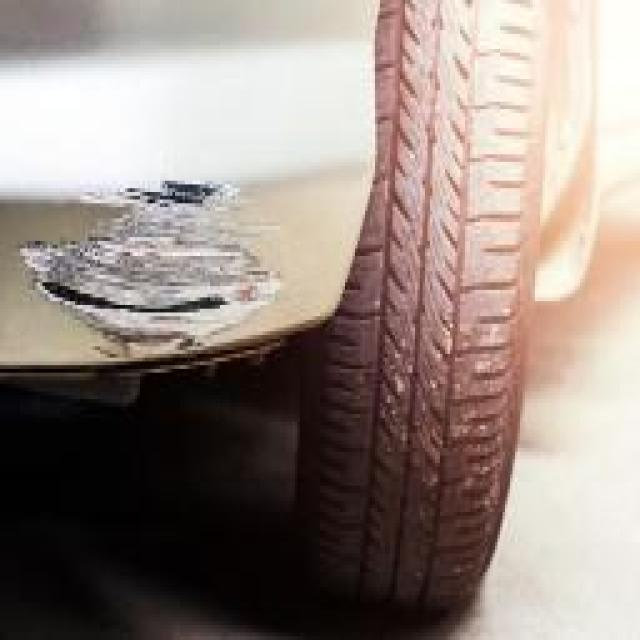Bumper: (5, 132, 290, 373)
